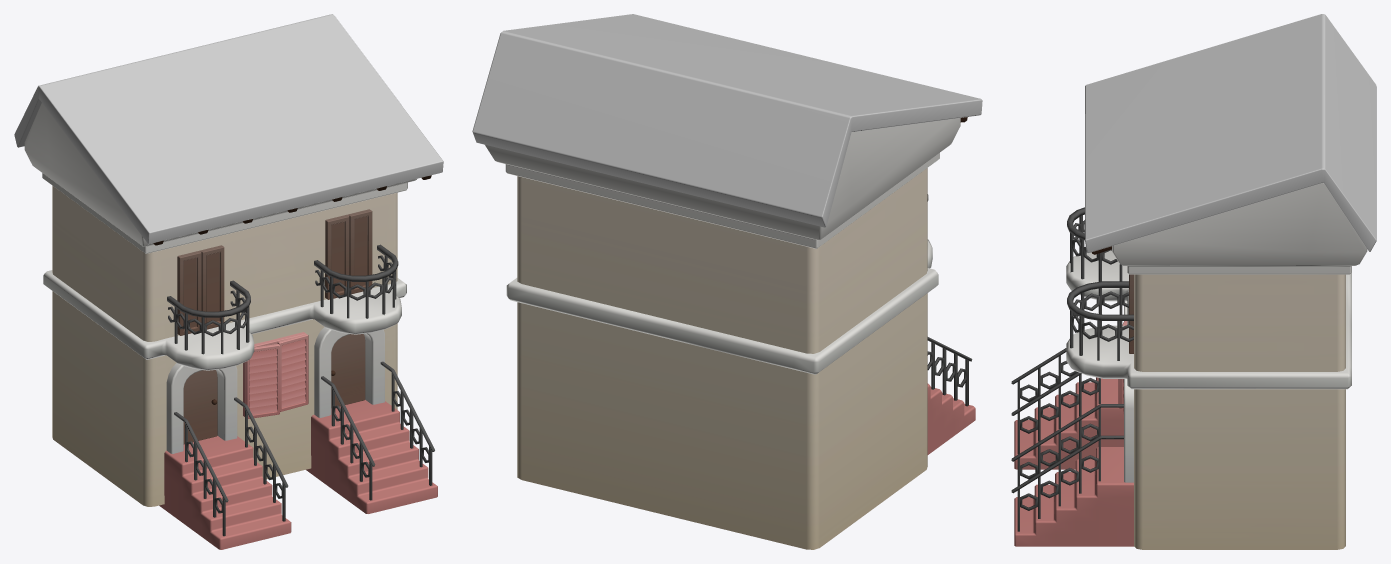
Rendered from BackgroundBuilding6.fbx.
3 views of the same model, side by side, from view 1: azimuth 30°, elevation 25°; view 2: azimuth 150°, elevation 25°; view 3: azimuth 270°, elevation 25° (orthographic). The views are drawn at different scales.
Parts seen in each view (by area): view 1: Cube.124; view 2: Cube.124; view 3: Cube.124.
Part boxes in pixels (left/top/right/bottom): Cube.124: left=14, top=14, right=443, bottom=549; Cube.124: left=472, top=14, right=982, bottom=549; Cube.124: left=1011, top=14, right=1376, bottom=549.
Size of the model in its own units: 884 by 1056 by 878.
